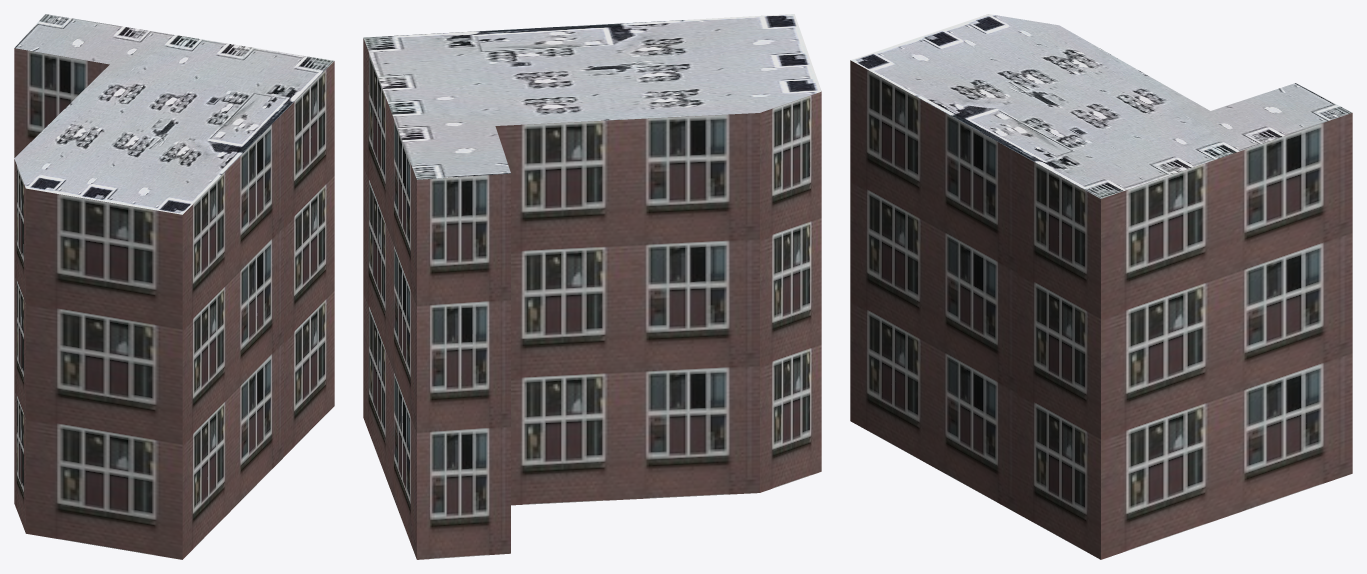
The model's file is ResTex__3495.fbx.
3 views of the same model, side by side, from view 1: azimuth 30°, elevation 25°; view 2: azimuth 150°, elevation 25°; view 3: azimuth 270°, elevation 25° (orthographic). The views are drawn at different scales.
Parts seen in each view (by area): view 1: CityEngineMaterial_12_m, CityEngineMaterial_4_m; view 2: CityEngineMaterial_12_m, CityEngineMaterial_4_m; view 3: CityEngineMaterial_12_m, CityEngineMaterial_4_m.
Part boxes in pixels (x1=…): CityEngineMaterial_12_m: x1=14, y1=48, x2=334, y2=559; CityEngineMaterial_4_m: x1=14, y1=14, x2=334, y2=214; CityEngineMaterial_12_m: x1=363, y1=38, x2=821, y2=559; CityEngineMaterial_4_m: x1=363, y1=14, x2=821, y2=179; CityEngineMaterial_12_m: x1=850, y1=60, x2=1352, y2=559; CityEngineMaterial_4_m: x1=851, y1=14, x2=1351, y2=198.
Bounding box in the file's own units: 9.89 × 9 × 11.35.
Materials: 2 (2 with a texture image).
